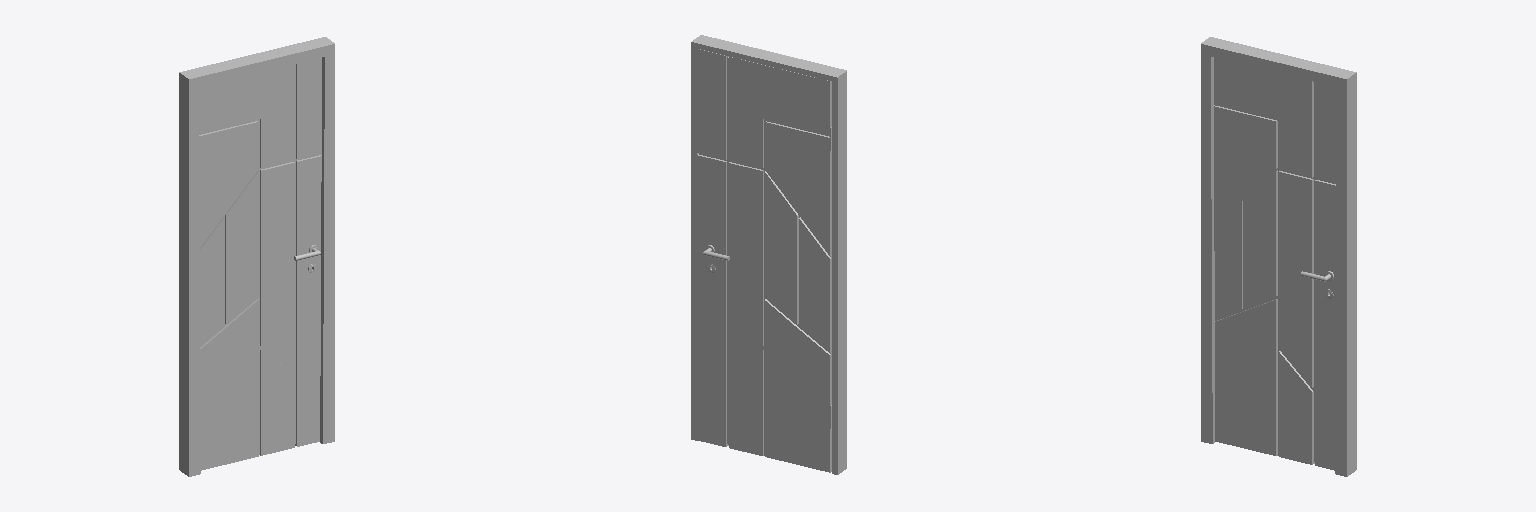
The model's file is Door 1.obj.
3 views of the same model, side by side, from view 1: azimuth 30°, elevation 25°; view 2: azimuth 150°, elevation 25°; view 3: azimuth 330°, elevation 25° (orthographic).
Bounding box in the file's own units: 0.9336 × 2.42 × 0.213.